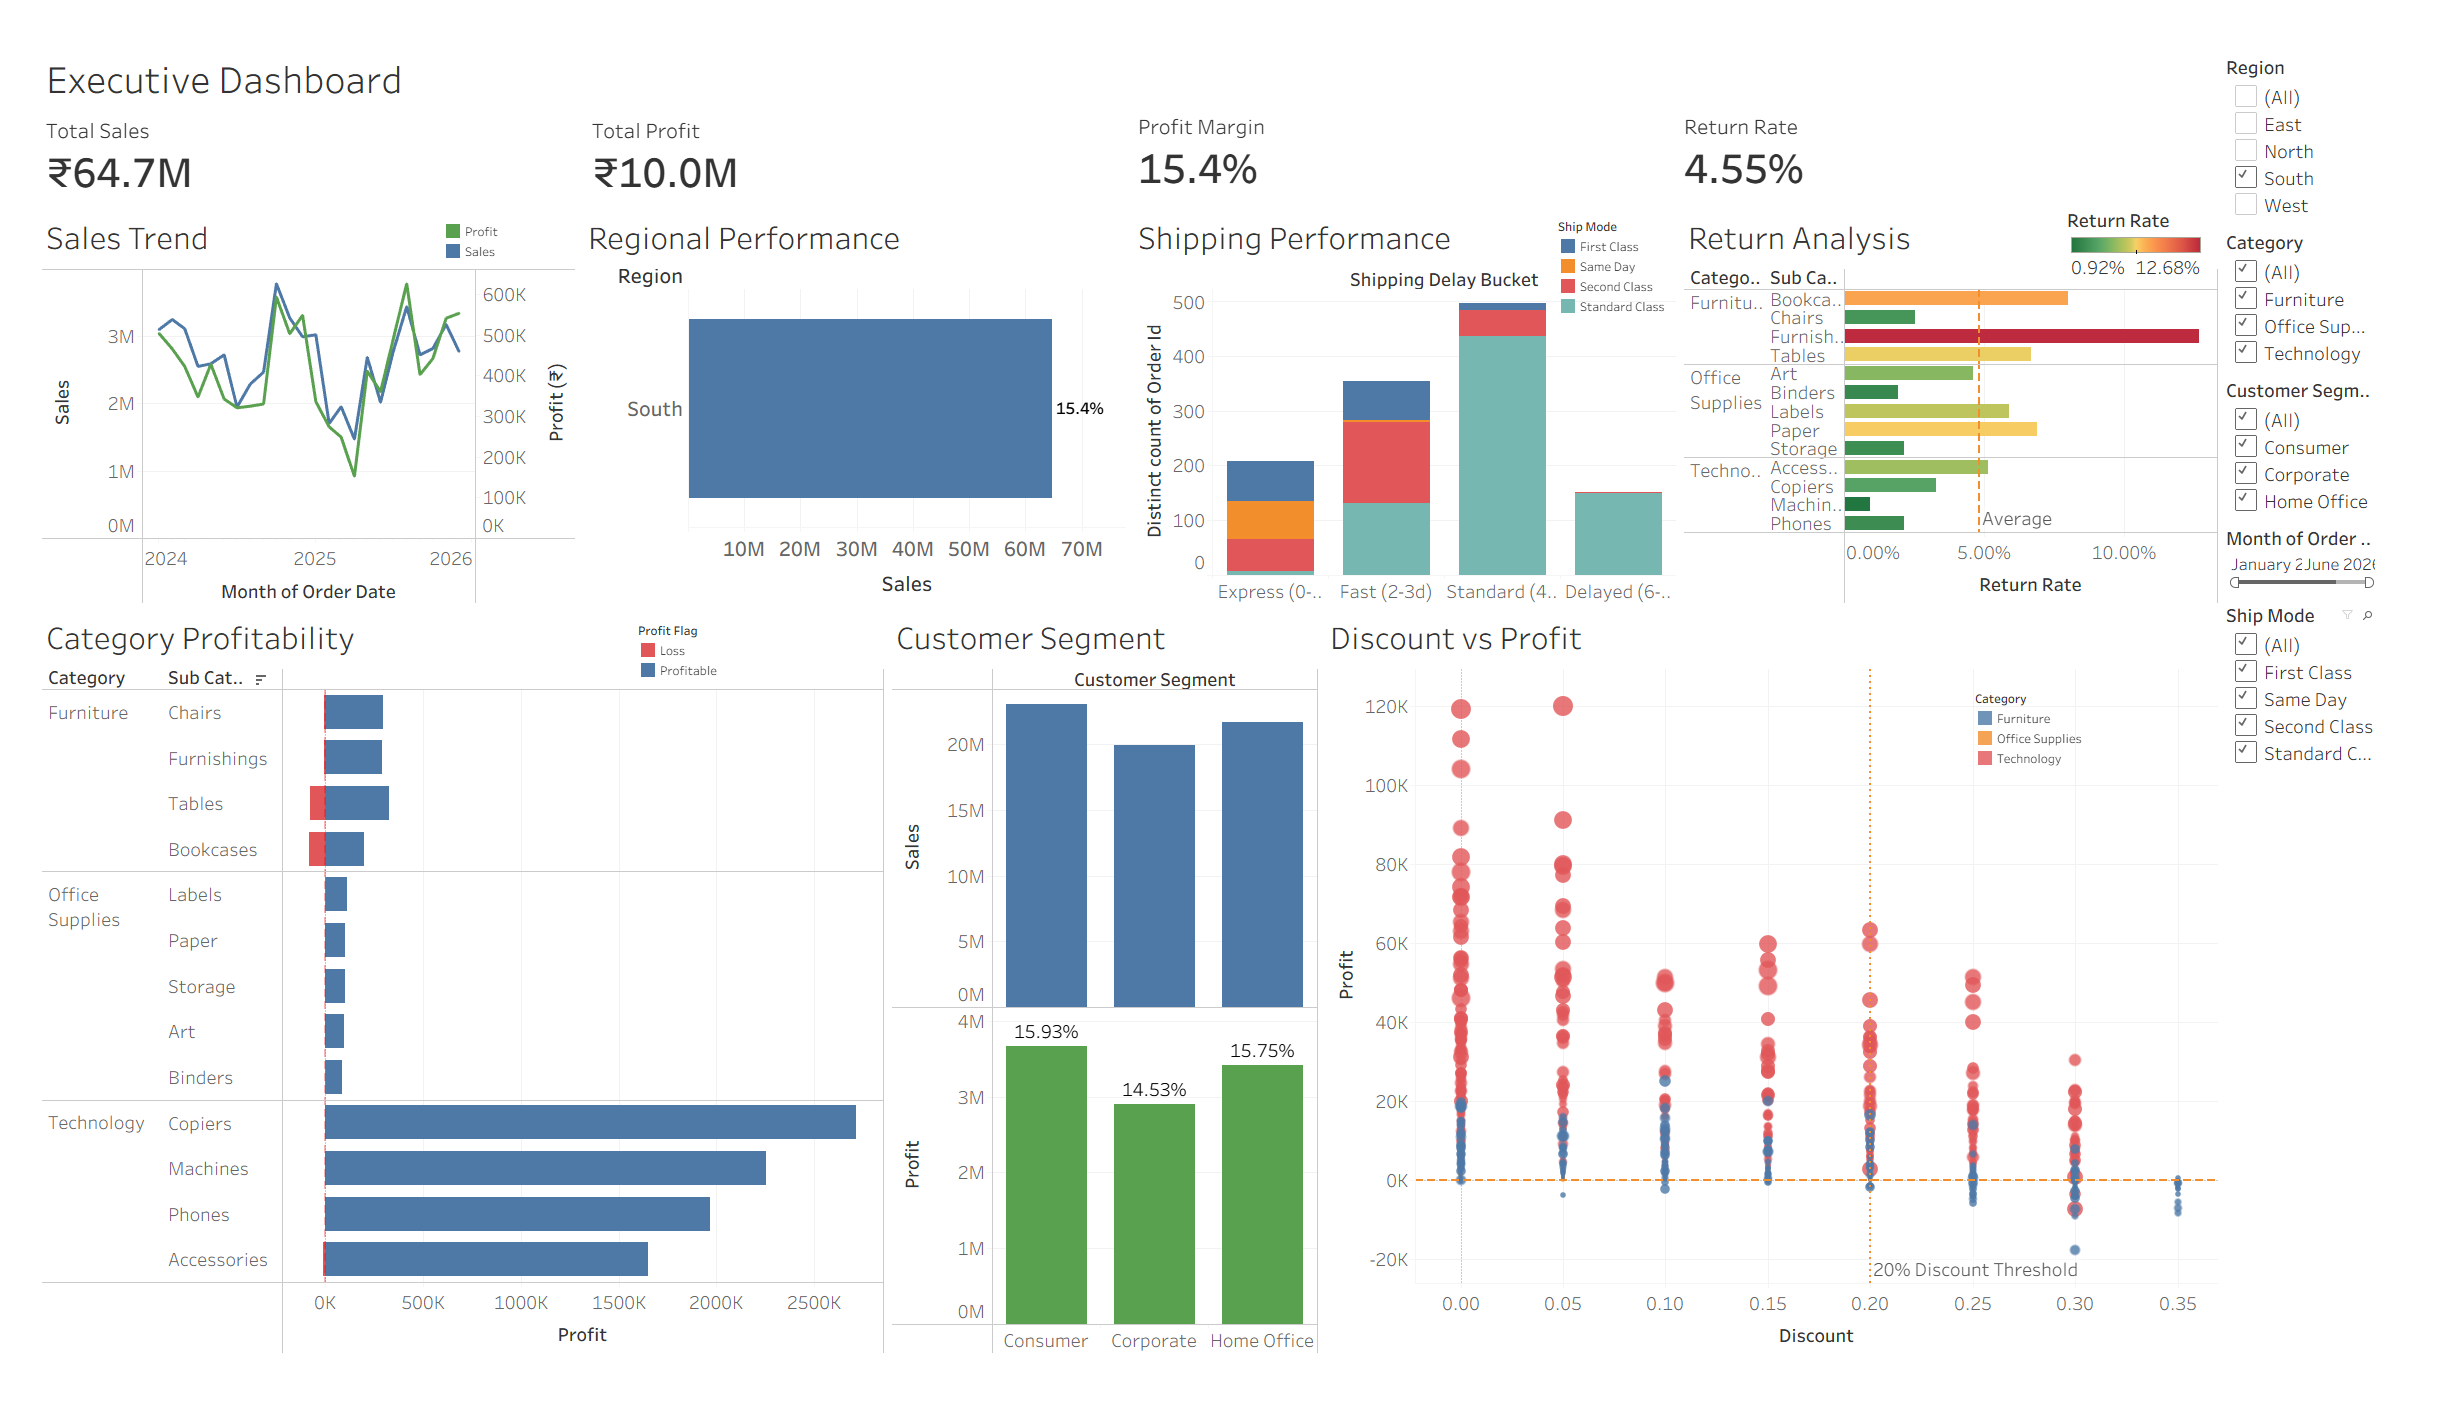

This screenshot's page, from the dashboard's own definition file:
{"tool":"tableau","page":{"name":"Executive Dashboard","canvas":[2360,1340],"ordinal":0},"visuals":[{"type":"title","box":[8,8,2184,58]},{"type":"filter","title":"Regional Performance","param":"[federated.18qkihv1hhapwm12xblsx0wvfdt8].[none:region:nk]","box":[2192,8,160,175]},{"type":"worksheet","title":" KPI Total Sales","mark":"Automatic","box":[8,66,545.9,100]},{"type":"worksheet","title":"KPI Total Profit","mark":"Automatic","box":[553.9,66,546.1,100]},{"type":"worksheet","title":"KPI Profit Margin","mark":"Automatic","box":[1100,66,545.9,100]},{"type":"worksheet","title":"KPI Return Rate","mark":"Automatic","box":[1645.9,66,546.1,100]},{"type":"legend","title":"Return Analysis","param":"[federated.18qkihv1hhapwm12xblsx0wvfdt8].[usr:Calculation_1523390749839365:qk]","box":[2037,165,138,69]},{"type":"worksheet","title":"Sales Trend","mark":"Automatic","rows":["sales","profit"],"cols":["order_date"],"box":[8,166,542,400]},{"type":"worksheet","title":"Regional Performance","mark":"Automatic","rows":["region"],"cols":["sales"],"box":[550,166,550,400]},{"type":"worksheet","title":"Shipping Performance","mark":"Automatic","rows":["order_id"],"cols":["Calculation_1523390749970438"],"box":[1100,166,550,400]},{"type":"worksheet","title":"Return Analysis","mark":"Automatic","rows":["category","sub_category"],"cols":["Calculation_1523390749839365"],"box":[1650,166,542,400]},{"type":"legend","title":"Shipping Performance","param":"[federated.18qkihv1hhapwm12xblsx0wvfdt8].[none:ship_mode:nk]","box":[1528,176,117,102]},{"type":"legend","title":"Sales Trend","param":"[federated.18qkihv1hhapwm12xblsx0wvfdt8].[:Measure Names]","box":[413,179,151,43]},{"type":"filter","title":"Category Profitability","param":"[federated.18qkihv1hhapwm12xblsx0wvfdt8].[none:category:nk]","box":[2192,183,160,148]},{"type":"filter","title":"Customer Segment","param":"[federated.18qkihv1hhapwm12xblsx0wvfdt8].[none:customer_segment:nk]","box":[2192,331,160,148]},{"type":"filter","title":"Sales Trend","param":"[federated.18qkihv1hhapwm12xblsx0wvfdt8].[tmn:order_date:qk]","box":[2192,479,160,77]},{"type":"filter","title":"Shipping Performance","param":"[federated.18qkihv1hhapwm12xblsx0wvfdt8].[none:ship_mode:nk]","box":[2192,556,160,175]},{"type":"worksheet","title":"Category Profitability","mark":"Automatic","rows":["category","sub_category"],"cols":["profit"],"box":[8,566,850,750]},{"type":"worksheet","title":"Customer Segment","mark":"Bar","rows":["sales","profit"],"cols":["customer_segment"],"box":[858,566,434,750]},{"type":"worksheet","title":"Discount vs Profit","mark":"Circle","rows":["profit"],"cols":["discount"],"box":[1292,566,900,750]},{"type":"legend","title":"Category Profitability","param":"[federated.18qkihv1hhapwm12xblsx0wvfdt8].[none:Calculation_1523390750064647:nk]","box":[608.4,580,121.7,58]},{"type":"legend","title":"Discount vs Profit","param":"[federated.18qkihv1hhapwm12xblsx0wvfdt8].[none:category:nk]","box":[1941,644,183,86]}]}

Visuals, with their boxes in screenshot pixels (x1, y1, x2, y2), scaled from the page's 2360x1340 canvas onto the 2449x1402 screenshot:
title: locate(8, 8, 2275, 69)
"Regional Performance" filter: locate(2275, 8, 2441, 191)
" KPI Total Sales" worksheet: locate(8, 69, 575, 174)
"KPI Total Profit" worksheet: locate(575, 69, 1141, 174)
"KPI Profit Margin" worksheet: locate(1141, 69, 1708, 174)
"KPI Return Rate" worksheet: locate(1708, 69, 2275, 174)
"Return Analysis" legend: locate(2114, 173, 2257, 245)
"Sales Trend" worksheet: locate(8, 174, 571, 592)
"Regional Performance" worksheet: locate(571, 174, 1141, 592)
"Shipping Performance" worksheet: locate(1141, 174, 1712, 592)
"Return Analysis" worksheet: locate(1712, 174, 2275, 592)
"Shipping Performance" legend: locate(1586, 184, 1707, 291)
"Sales Trend" legend: locate(429, 187, 585, 232)
"Category Profitability" filter: locate(2275, 191, 2441, 346)
"Customer Segment" filter: locate(2275, 346, 2441, 501)
"Sales Trend" filter: locate(2275, 501, 2441, 582)
"Shipping Performance" filter: locate(2275, 582, 2441, 765)
"Category Profitability" worksheet: locate(8, 592, 890, 1377)
"Customer Segment" worksheet (Bar marks): locate(890, 592, 1341, 1377)
"Discount vs Profit" worksheet (Circle marks): locate(1341, 592, 2275, 1377)
"Category Profitability" legend: locate(631, 607, 758, 668)
"Discount vs Profit" legend: locate(2014, 674, 2204, 764)
